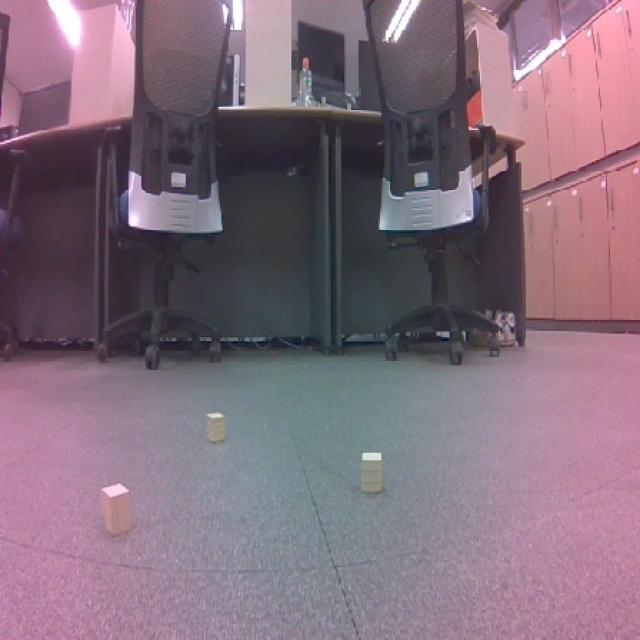obstacle: (92, 482, 150, 538), (356, 448, 391, 500), (197, 402, 234, 449)
